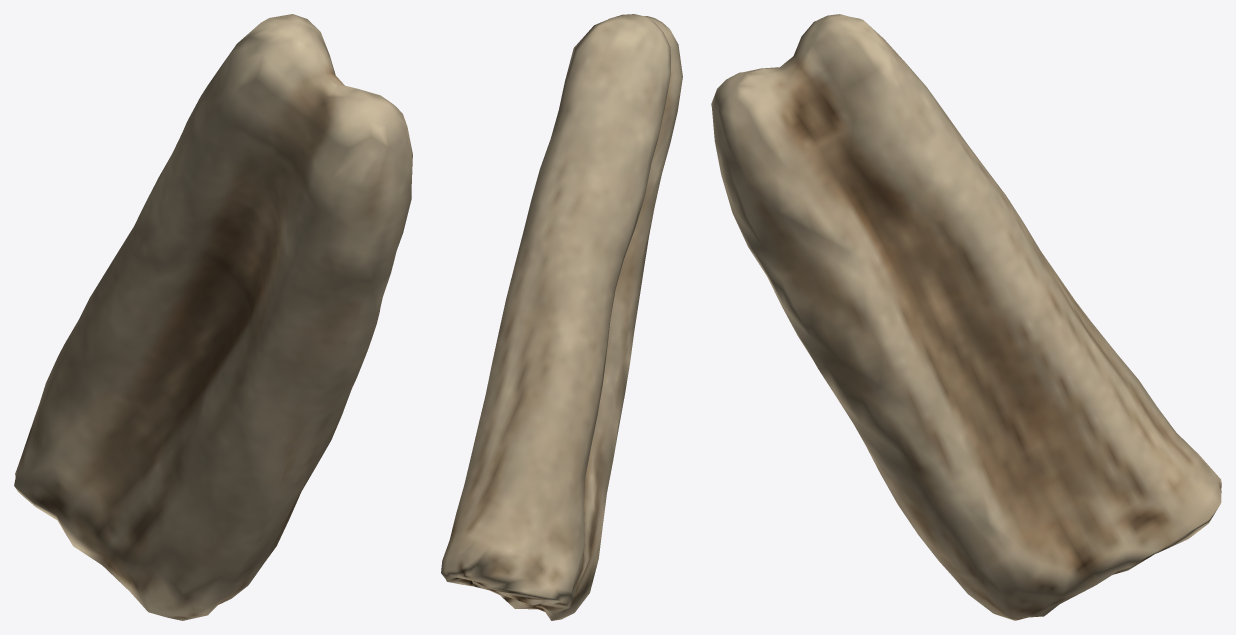
File: Maxilary_Premolar3.glb
3 renders of one model, left to right at view 1: azimuth 30°, elevation 25°; view 2: azimuth 150°, elevation 25°; view 3: azimuth 270°, elevation 25°, orthographic. The views are drawn at different scales.
Parts seen in each view (by area): view 1: Maxilary_Premolar3.glb; view 2: Maxilary_Premolar3.glb; view 3: Maxilary_Premolar3.glb.
Boxes of the visible parts, <box> form: Maxilary_Premolar3.glb: <box>14,14,412,620</box>; Maxilary_Premolar3.glb: <box>441,14,682,620</box>; Maxilary_Premolar3.glb: <box>711,14,1221,620</box>.
Bounding box in the file's own units: 0.0237 × 0.0772 × 0.0598.
Materials: 1 (1 with a texture image).
